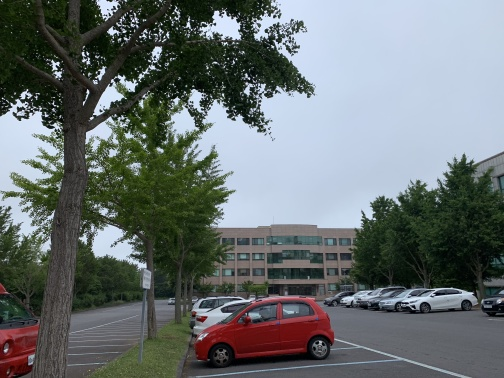Joint Experimental Labs: (201, 223, 361, 300)
Second Library: (470, 148, 504, 193)
